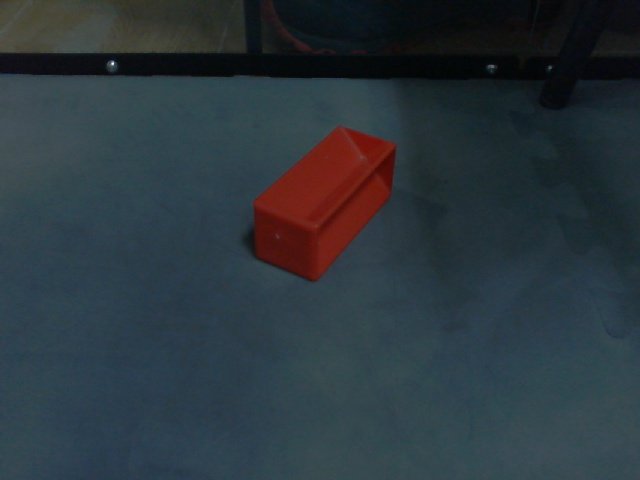RedSample: (251, 123, 399, 282)
